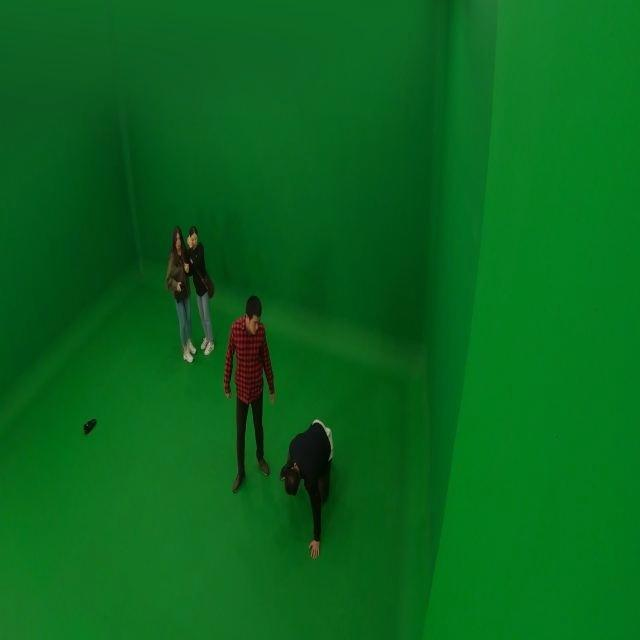non-fight: (223, 293, 278, 495), (280, 415, 340, 563), (166, 224, 198, 368), (186, 225, 218, 356)
